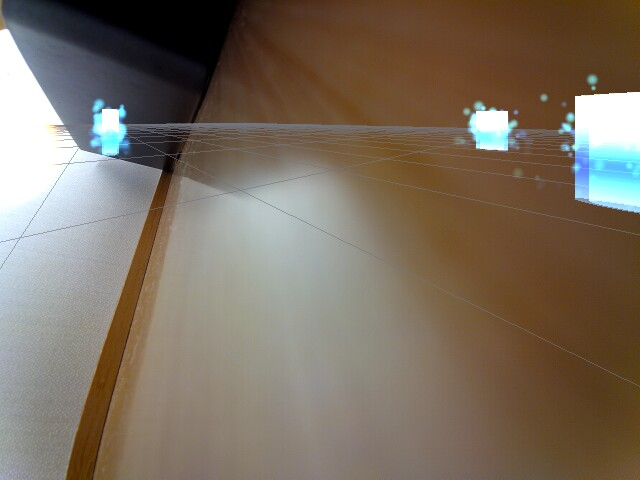firebig: (0, 66, 50, 217)
